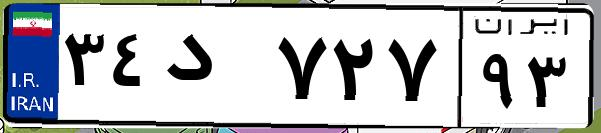2: (330, 28, 385, 110)
3: (57, 26, 110, 100), (525, 38, 570, 115)
4: (110, 28, 158, 98)
7: (270, 28, 330, 110), (385, 28, 445, 110)
9: (475, 38, 525, 113)
د: (158, 20, 270, 120)
